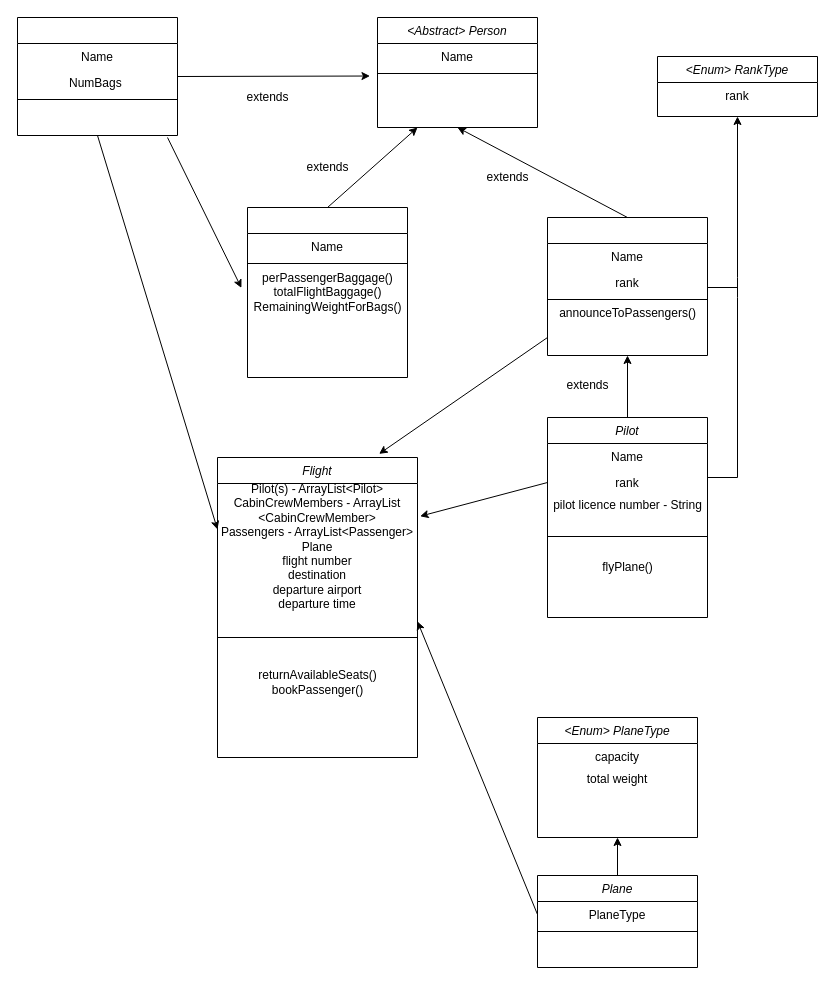
Some shapes in this 835 by 985 pixel diagram are drawn without their labels. Here are the shapes that lost their labels. From the top down, the box of each, then its label:
(16, 16, 178, 136): Passenger
(246, 206, 408, 378): FlightManager
(546, 216, 708, 356): CabinCrewMember
